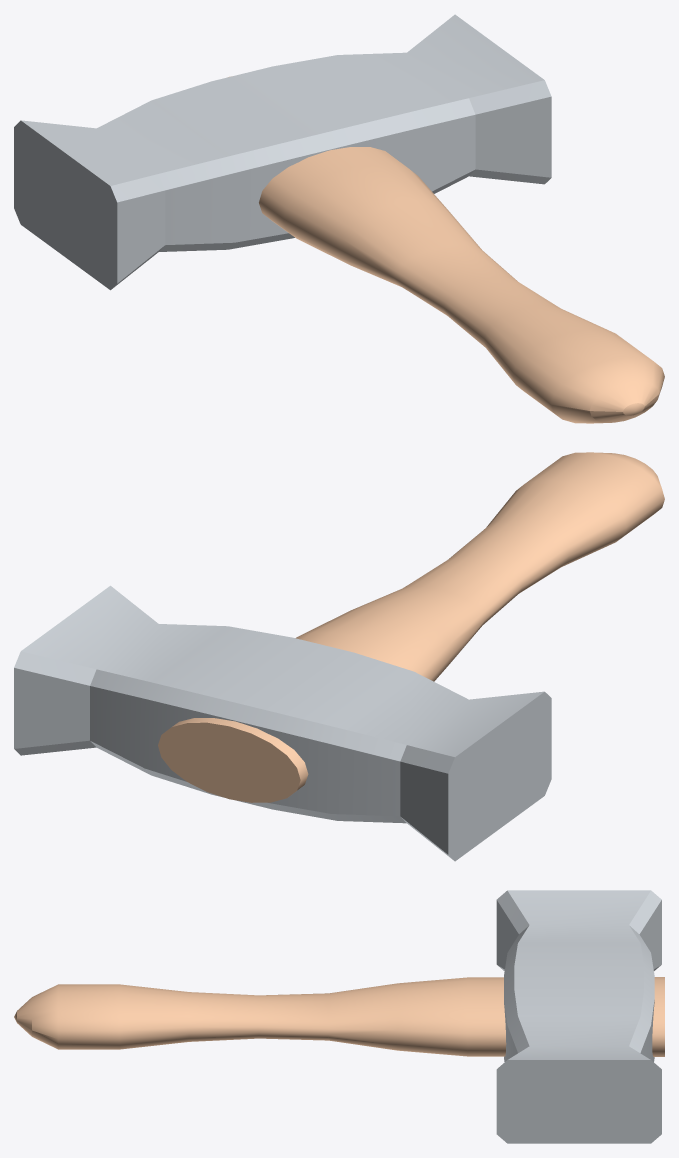
File: Hammer.fbx
The picture shows the model from 3 angles, top to bottom: view 1: azimuth 30°, elevation 25°; view 2: azimuth 150°, elevation 25°; view 3: azimuth 270°, elevation 25°; orthographic projection. The views are drawn at different scales.
Parts seen in each view (by area): view 1: Hammer; view 2: Hammer; view 3: Hammer.
Part boxes in pixels (x1,y1,x2,y2): Hammer: (14, 14, 664, 423); Hammer: (14, 452, 664, 861); Hammer: (14, 890, 664, 1143).
Bounding box in the file's own units: 2.54 × 0.5832 × 4.12.
1 material, 1 textured.
